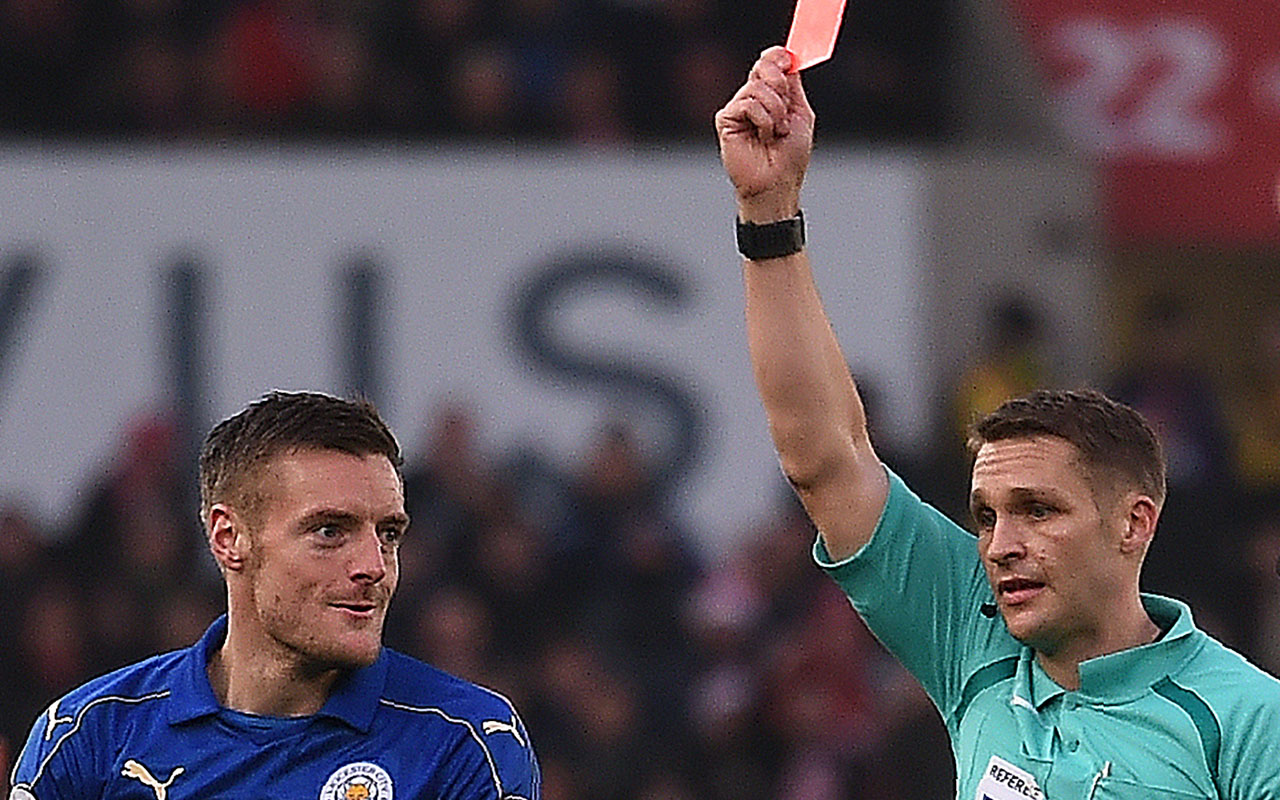red_card: (684, 0, 884, 213)
